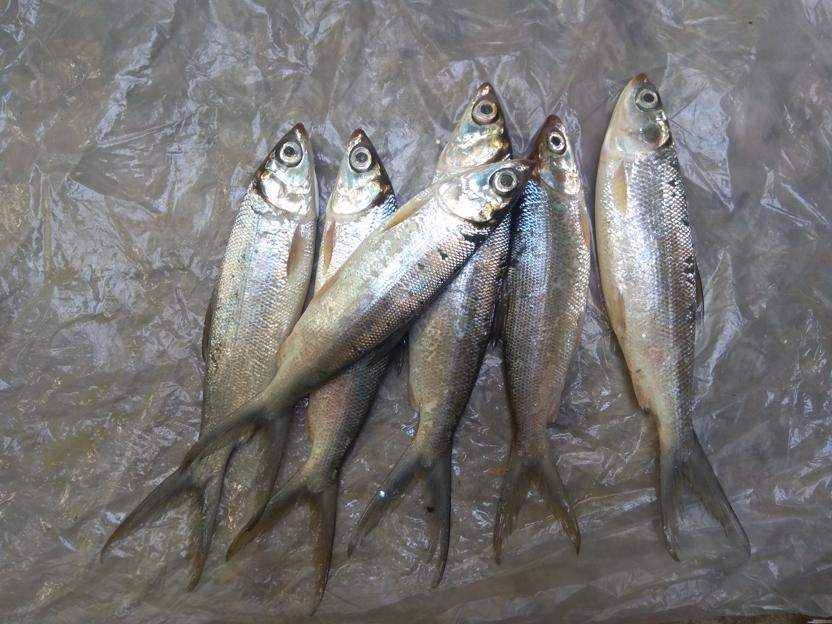Fish head: (441, 81, 512, 173), (325, 127, 393, 220), (439, 159, 531, 226), (255, 122, 318, 218), (602, 74, 673, 157), (528, 115, 582, 197)
Fish tail: (100, 457, 228, 593), (226, 470, 342, 616), (347, 441, 453, 591), (179, 398, 295, 531), (655, 430, 754, 563), (492, 443, 582, 570)
